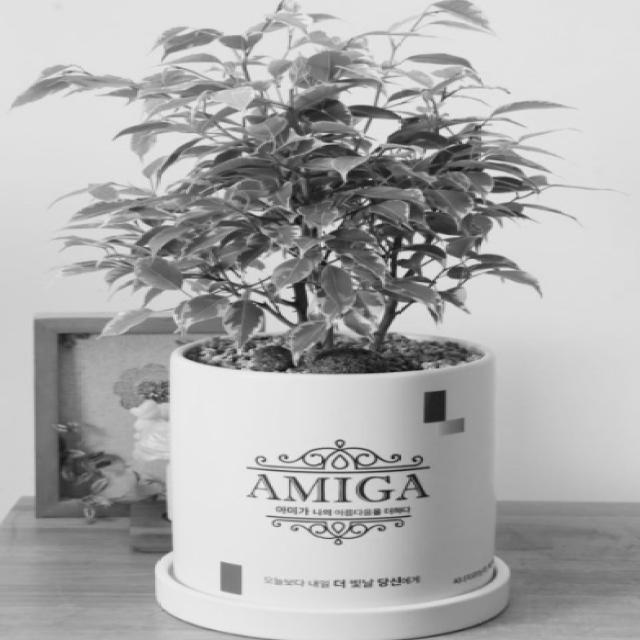Plant Pot: (147, 331, 537, 638)
